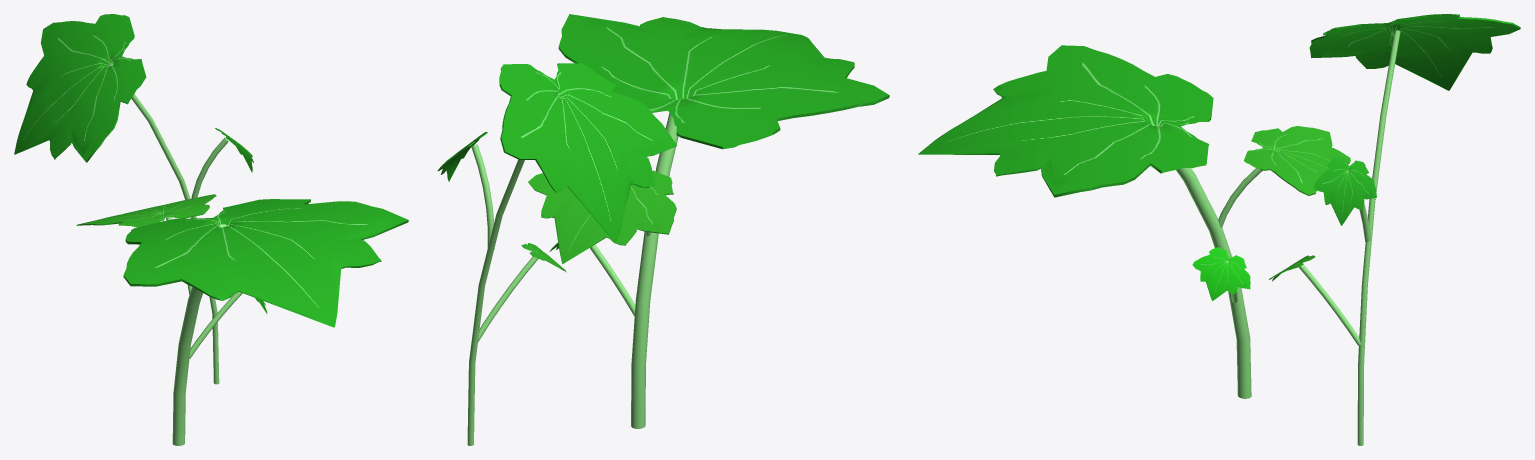
The model's file is 南瓜生長1.FBX.
3 renders of one model, left to right at view 1: azimuth 30°, elevation 25°; view 2: azimuth 150°, elevation 25°; view 3: azimuth 270°, elevation 25°, orthographic. The views are drawn at different scales.
Parts seen in each view (by area): view 1: Box001, Box004, Cylinder001, Box002, Cylinder004, Cylinder003, Cylinder005; view 2: Box001, Box004, Box002, Cylinder001, Cylinder004, Cylinder005, Cylinder006, Cylinder003, Box005; view 3: Box001, Box004, Box002, Cylinder001, Cylinder004, Box005, Box003, Cylinder006.
Part boxes in pixels (left/top/right/bottom): Box001: left=123, top=199, right=408, bottom=327; Box004: left=14, top=14, right=146, bottom=162; Cylinder001: left=172, top=224, right=227, bottom=445; Box002: left=76, top=194, right=216, bottom=226; Cylinder004: left=108, top=63, right=219, bottom=384; Cylinder003: left=189, top=292, right=242, bottom=358; Cylinder005: left=191, top=137, right=228, bottom=198; Box001: left=558, top=14, right=889, bottom=149; Box004: left=499, top=63, right=676, bottom=243; Box002: left=528, top=170, right=676, bottom=263; Cylinder001: left=631, top=113, right=678, bottom=428; Cylinder004: left=467, top=96, right=560, bottom=445; Cylinder005: left=472, top=144, right=494, bottom=250; Cylinder006: left=478, top=256, right=538, bottom=342; Cylinder003: left=590, top=244, right=635, bottom=316; Box005: left=437, top=132, right=487, bottom=181; Box001: left=918, top=45, right=1213, bottom=197; Box004: left=1309, top=14, right=1520, bottom=90; Box002: left=1244, top=126, right=1375, bottom=199; Cylinder001: left=1158, top=125, right=1251, bottom=398; Cylinder004: left=1357, top=30, right=1400, bottom=445; Box005: left=1314, top=157, right=1376, bottom=225; Box003: left=1192, top=247, right=1250, bottom=301; Cylinder006: left=1299, top=264, right=1360, bottom=345.
Size of the model in its own units: 4.61 by 5.75 by 7.87.
4 materials, 4 textured.
